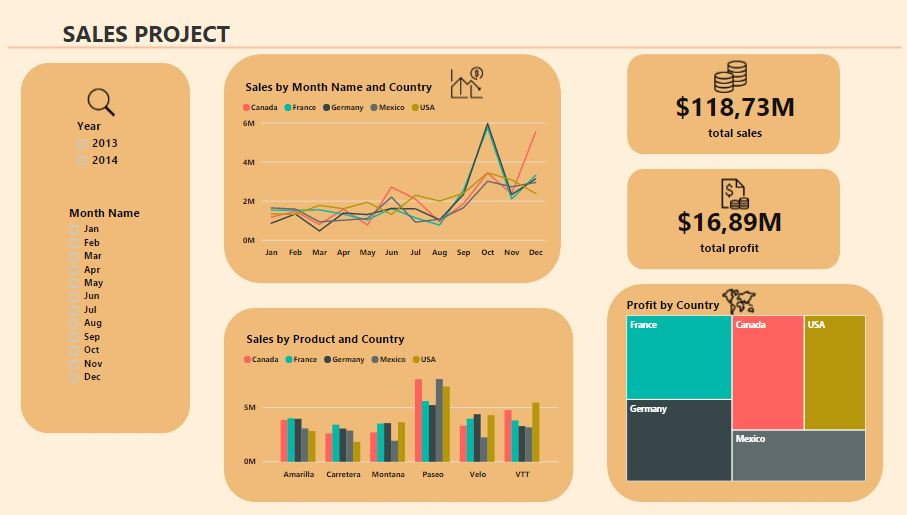

What the dashboard file says about the page in this screenshot:
{"tool":"powerbi","page":{"name":"Page 1","canvas":[1280,720],"ordinal":0},"visuals":[{"type":"slicer","fields":{"Values":["Table2.Year"]},"box":[95.8,142.3,83.1,90.2],"z":1},{"type":"slicer","fields":{"Values":["Table2.Month Name"]},"box":[84.7,265.4,146.8,271.1],"z":2},{"type":"treemap","fields":{"Values":["Sum(Table2.Profit)"],"Group":["Table2.Country"]},"box":[878.1,399.5,345.9,264],"z":3},{"type":"clusteredColumnChart","fields":{"Category":["Table2.Product"],"Y":["Sum(Table2. Sales)"],"Series":["Table2.Country"]},"box":[338.8,447.5,453.2,213.2],"z":4},{"type":"lineChart","fields":{"Y":["Sum(Table2. Sales)"],"Category":["Table2.Month Name"],"Series":["Table2.Country"]},"box":[337.4,93.2,436.2,255.5],"z":5},{"type":"card","fields":{"Values":["Table2.total sales"]},"box":[919.1,90.4,232.9,103.1],"z":6},{"type":"textbox","box":[83.3,1.4,399.5,70.6],"z":8},{"type":"card","fields":{"Values":["Table2.total profit"]},"box":[909.2,259.8,237.2,87.5],"z":9},{"type":"image","box":[1001.8,376.2,78.9,57.8],"z":9},{"type":"image","box":[986.8,62.1,85,55.1],"z":10},{"type":"image","box":[991.1,227.3,84.7,55.1],"z":11},{"type":"image","box":[615.5,70.6,84.7,55.1],"z":12},{"type":"image","box":[100.2,98.8,84.7,55.1],"z":13},{"type":"basicShape","box":[1.4,21.2,1279.1,55.1],"z":14}]}

Visuals, with their boxes in screenshot pixels (x1, y1, x2, y2), scaled from the page's 1280x720 canvas onto the 907x515 screenshot:
slicer - Table2.Year: Rect(68, 102, 127, 166)
slicer - Table2.Month Name: Rect(60, 190, 164, 384)
treemap - Sum(Table2.Profit) x Table2.Country: Rect(622, 286, 867, 475)
clusteredColumnChart - Table2.Product x Sum(Table2. Sales): Rect(240, 320, 561, 473)
lineChart - Sum(Table2. Sales) x Table2.Month Name: Rect(239, 67, 548, 249)
card - Table2.total sales: Rect(651, 65, 816, 138)
textbox: Rect(59, 1, 342, 52)
card - Table2.total profit: Rect(644, 186, 812, 248)
image: Rect(710, 269, 766, 310)
image: Rect(699, 44, 759, 84)
image: Rect(702, 163, 762, 202)
image: Rect(436, 50, 496, 90)
image: Rect(71, 71, 131, 110)
basicShape: Rect(1, 15, 906, 55)
